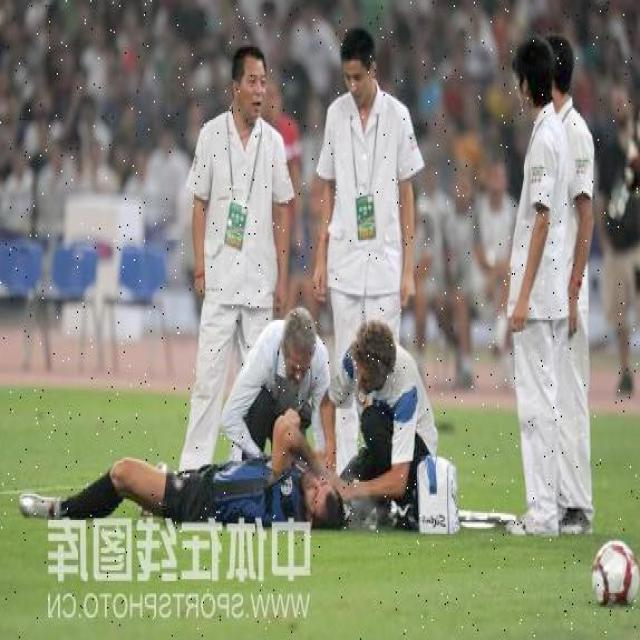fall: (26, 454, 348, 520)
